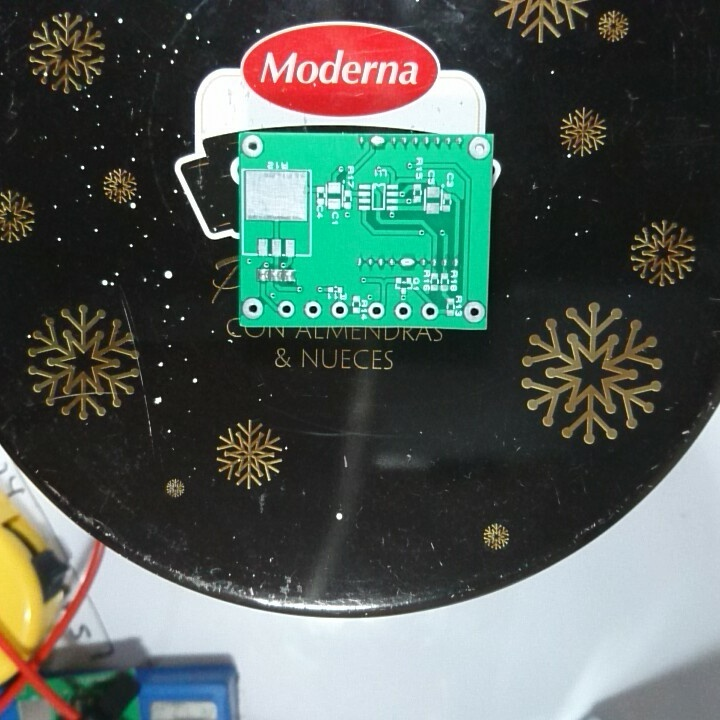F: (460, 299, 485, 326), (240, 134, 267, 159), (466, 134, 490, 162), (240, 298, 267, 320), (393, 300, 413, 321), (275, 299, 296, 319), (365, 300, 385, 320), (420, 301, 440, 320), (302, 300, 321, 320), (329, 299, 347, 320)
P: (368, 134, 387, 150), (396, 255, 416, 270)
